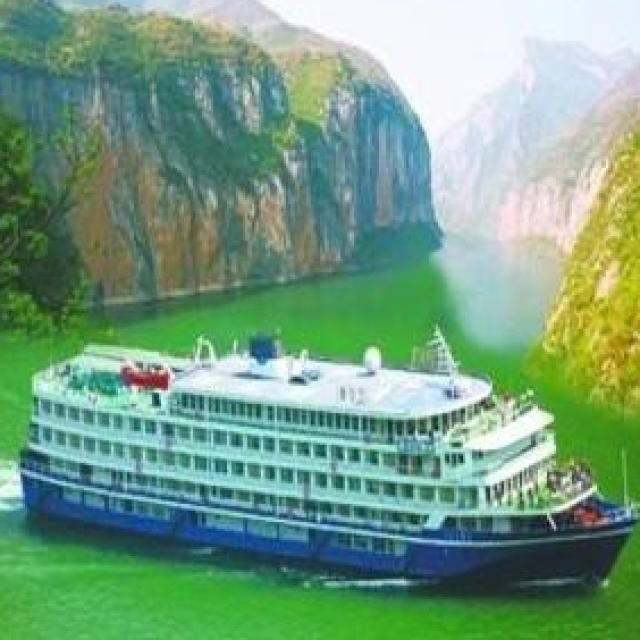passenger ship: (19, 332, 638, 583)
